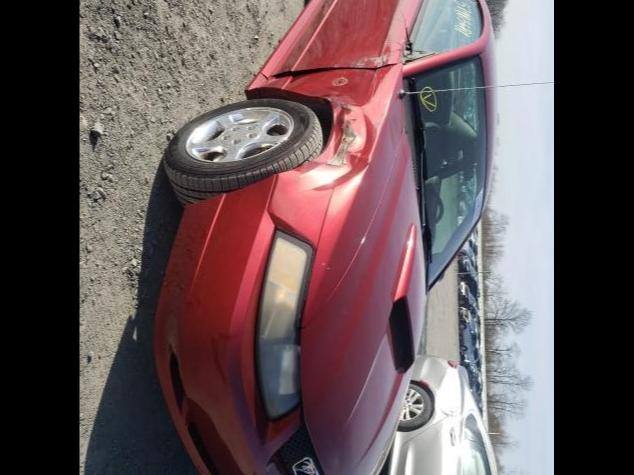Broken part: (260, 60, 404, 82)
Dent: (288, 86, 372, 198)
Missing part: (401, 20, 418, 60), (332, 76, 348, 86)
Scratch: (324, 114, 356, 168), (342, 50, 390, 68), (330, 74, 346, 86)
